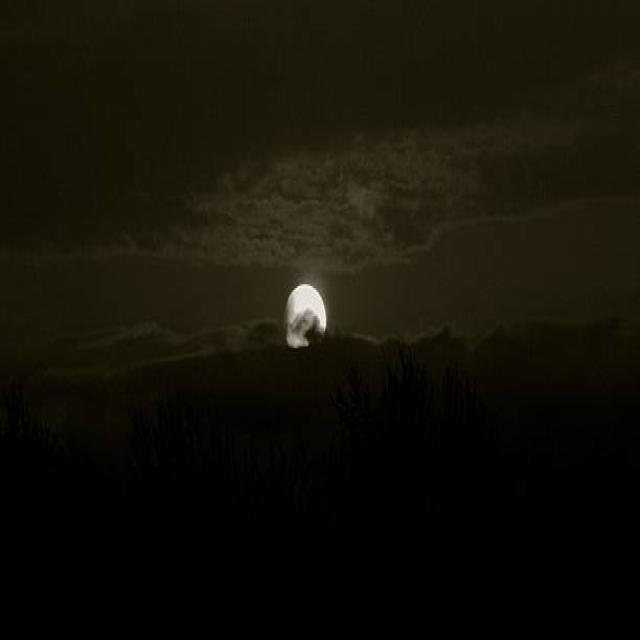moon: (271, 248, 330, 358)
